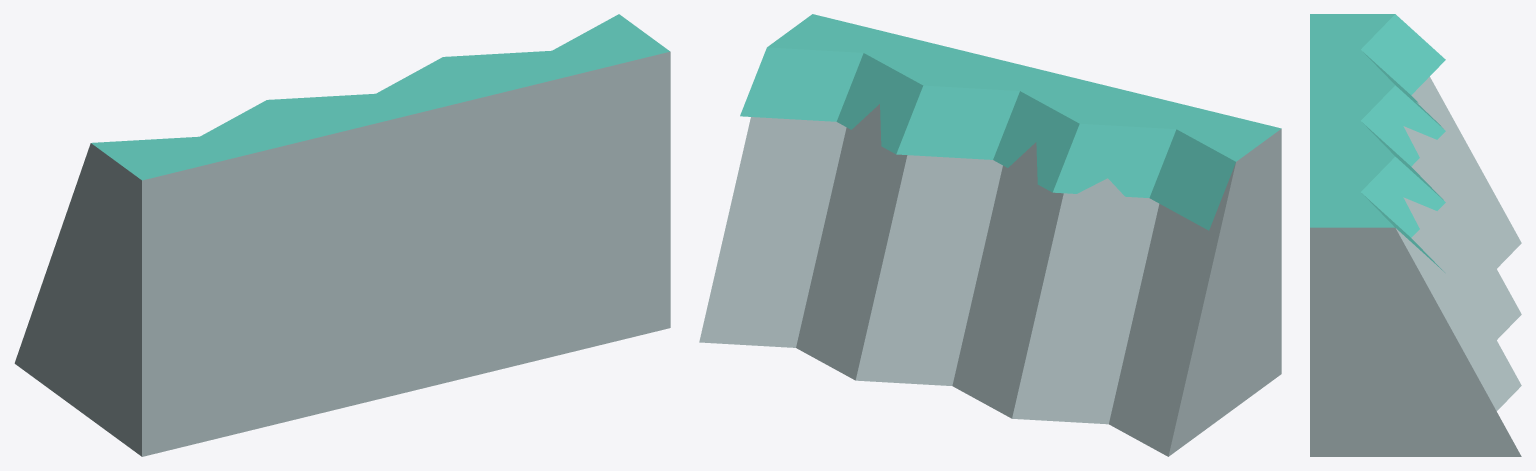
File: cliff_half_stone.glb
3 views of the same model, side by side, from view 1: azimuth 30°, elevation 25°; view 2: azimuth 150°, elevation 25°; view 3: azimuth 270°, elevation 25° (orthographic). The views are drawn at different scales.
Parts seen in each view (by area): view 1: cliff_half_stone; view 2: cliff_half_stone; view 3: cliff_half_stone.
Boxes of the visible parts, box(x1,y1,x2,y2) form: cliff_half_stone: box(14, 14, 670, 456); cliff_half_stone: box(699, 14, 1281, 456); cliff_half_stone: box(1310, 14, 1521, 456).
Bounding box in the file's own units: 1 × 0.5 × 0.4185.
